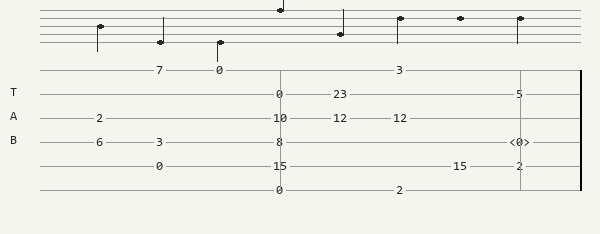0: (156, 160, 167, 172), (216, 64, 227, 76), (276, 88, 287, 100), (276, 184, 287, 196)
10: (273, 112, 291, 124)
12: (333, 112, 351, 124), (393, 112, 411, 124)
15: (273, 160, 291, 172), (453, 160, 471, 172)
2: (96, 112, 107, 124), (396, 184, 407, 196), (516, 160, 527, 172)
23: (333, 88, 351, 100)
3: (156, 136, 167, 148), (396, 64, 407, 76)
5: (516, 88, 527, 100)
6: (96, 136, 107, 148)
7: (156, 64, 167, 76)
8: (276, 136, 287, 148)
harmonic: (509, 136, 534, 148)
